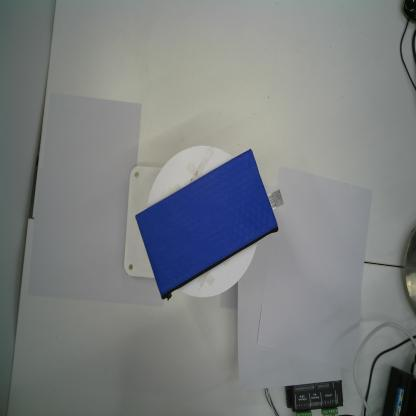Stationery: (134, 146, 285, 304)
